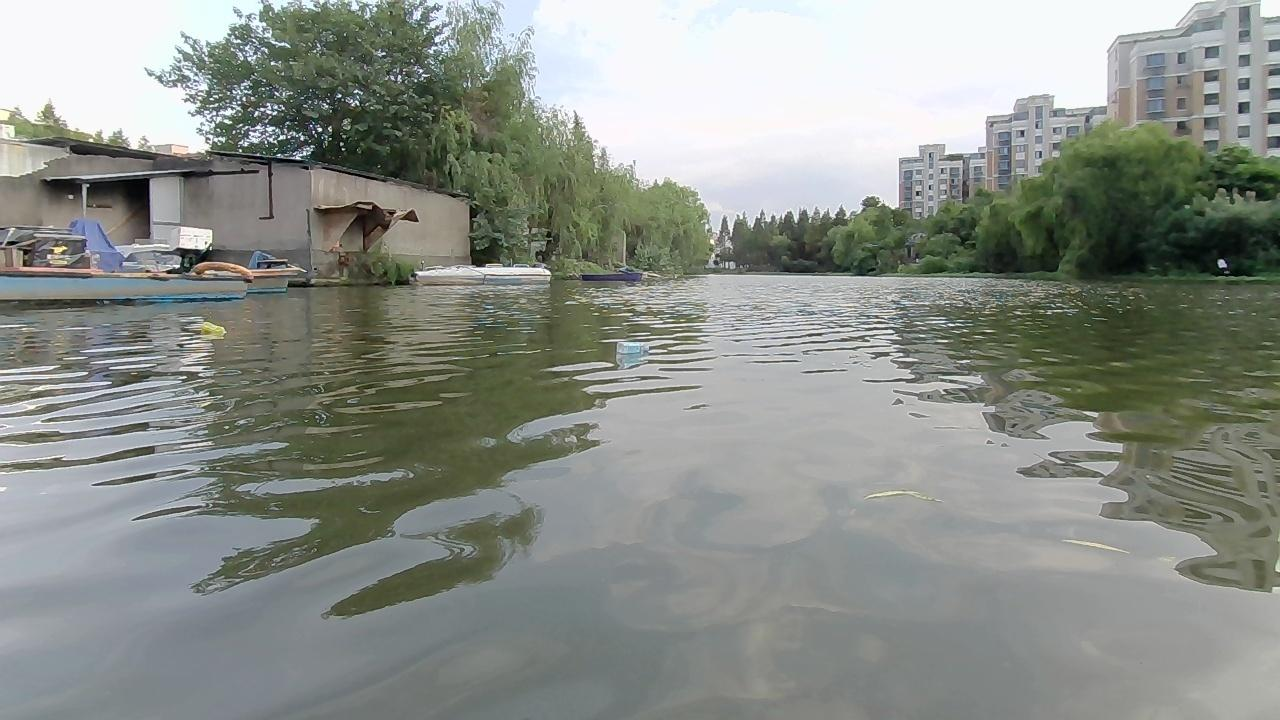bottle: (194, 316, 233, 337), (615, 337, 651, 357)
